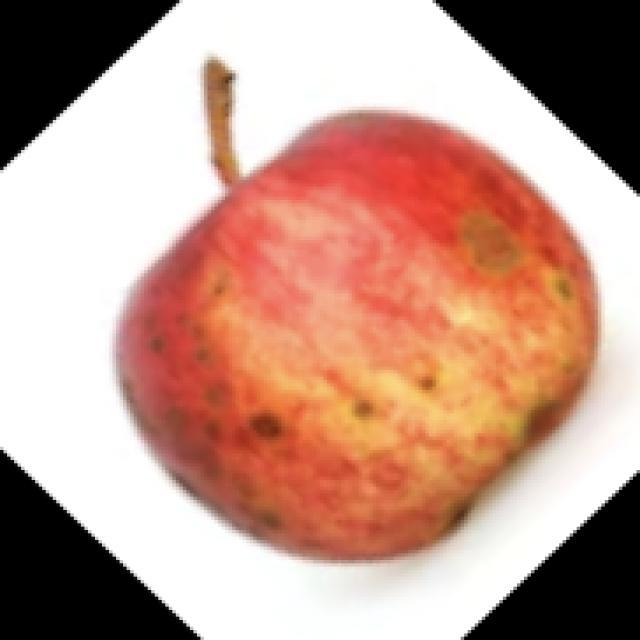Rotten: (96, 113, 592, 572)
